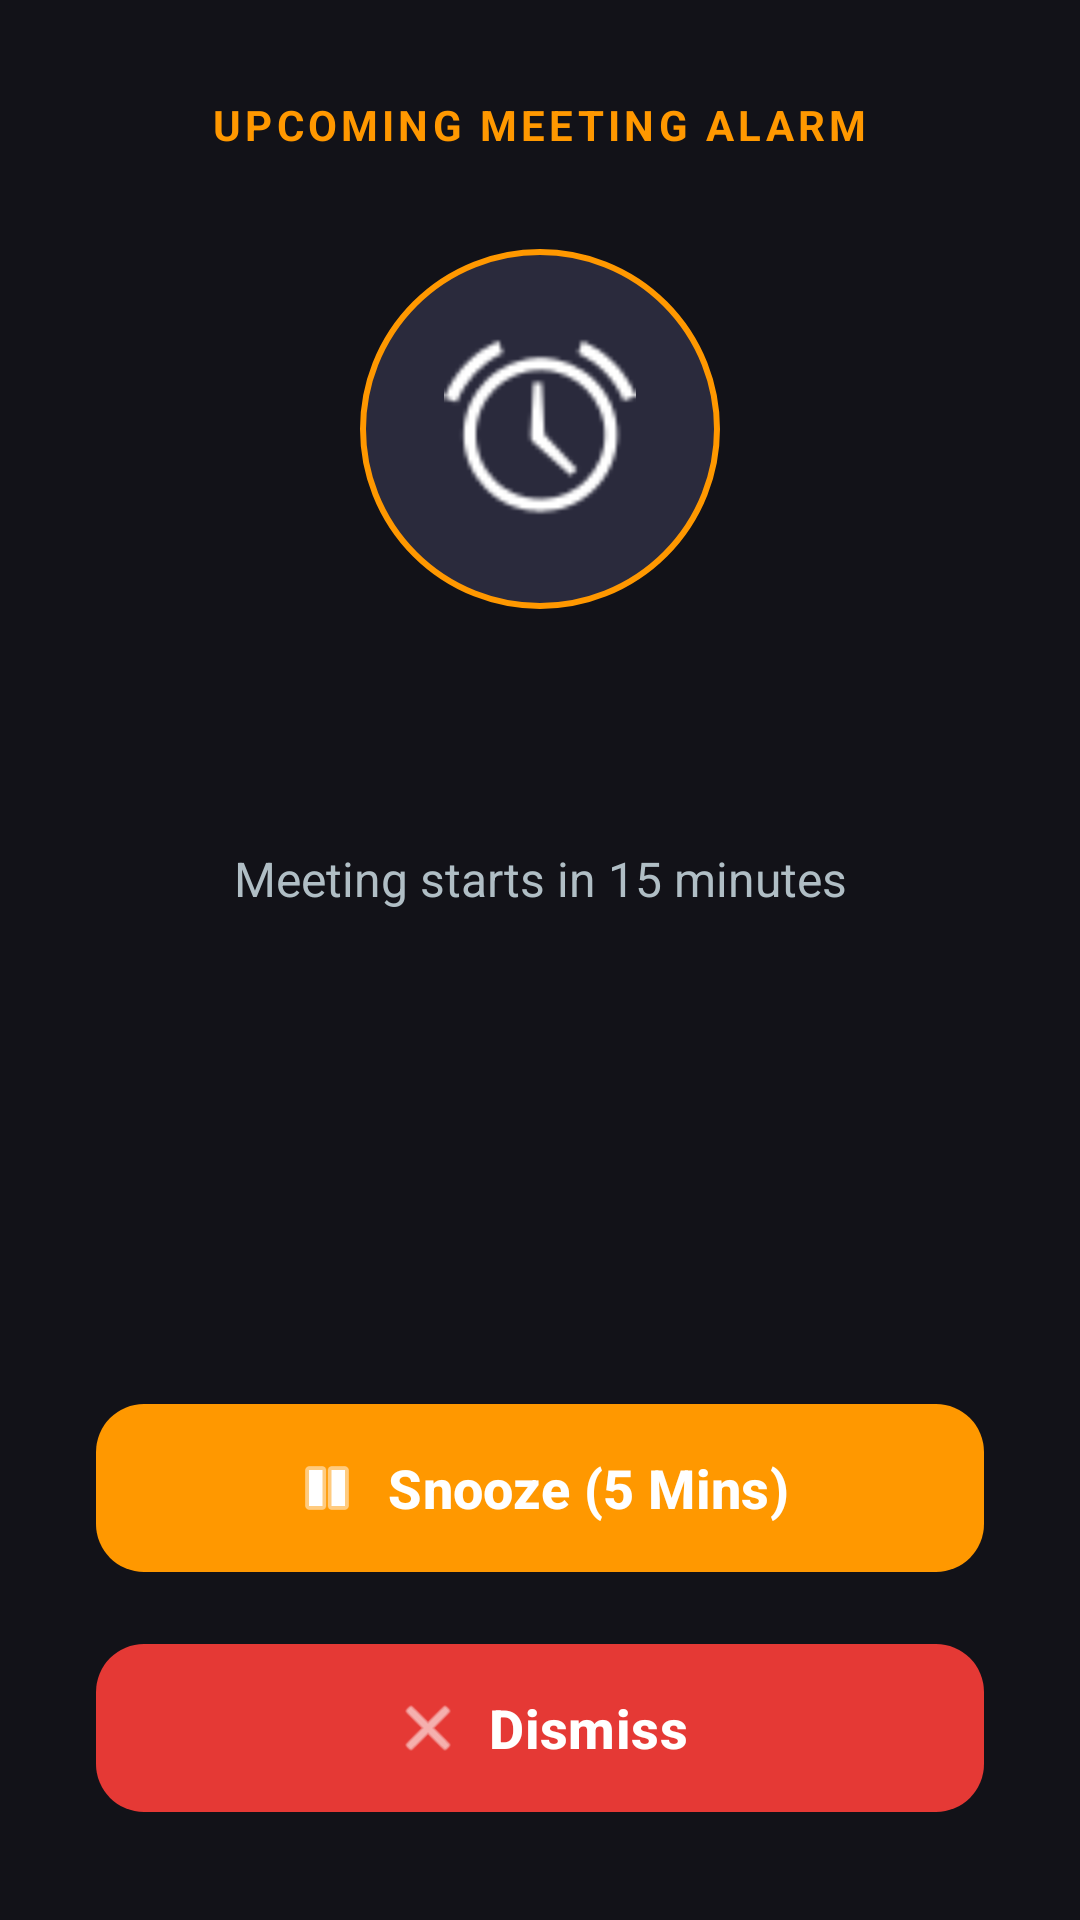

Screen size 1080*1920. Icon name, then its box in pixels as region(x1, y1, x2, y2):
lock idle alarm: region(444, 340, 636, 514)
